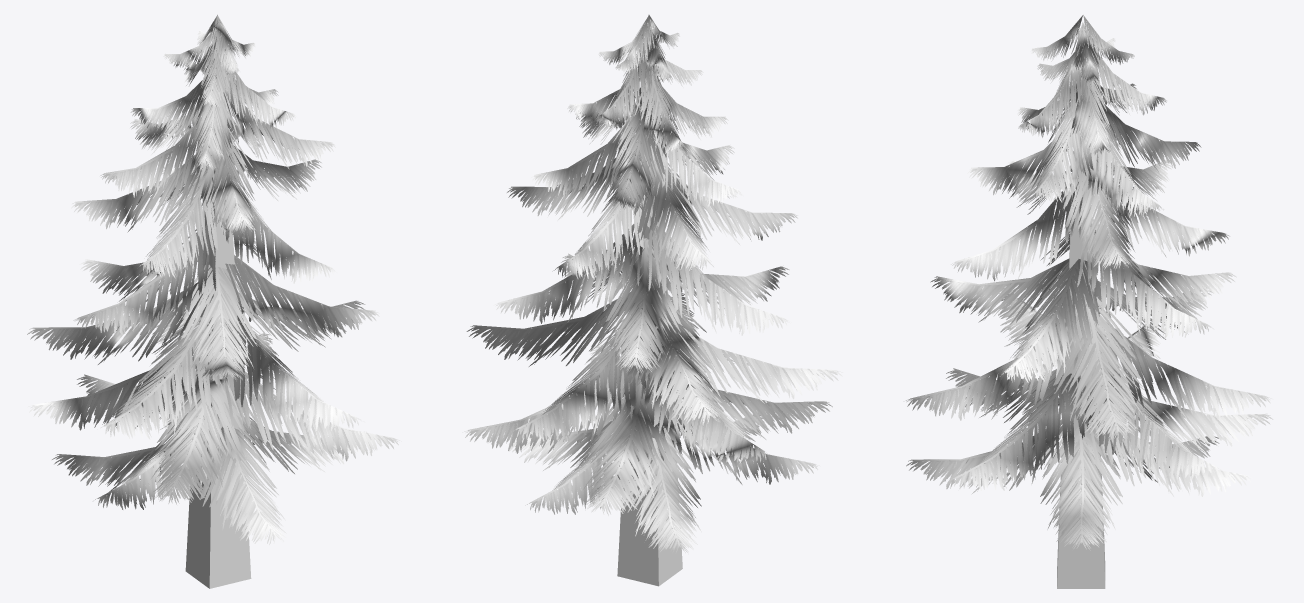
Rendered from PineTree02.fbx.
3 views of the same model, side by side, from view 1: azimuth 30°, elevation 25°; view 2: azimuth 150°, elevation 25°; view 3: azimuth 270°, elevation 25° (orthographic).
Visible parts, largest first — view 1: PineTree02_LOD0; view 2: PineTree02_LOD0; view 3: PineTree02_LOD0.
Boxes of the visible parts, x1,y1,x2,y2 form: PineTree02_LOD0: (27,14,401,588); PineTree02_LOD0: (462,15,842,586); PineTree02_LOD0: (906,15,1273,588).
Size of what is drawn, in the model's own units: 552 by 835 by 543.
